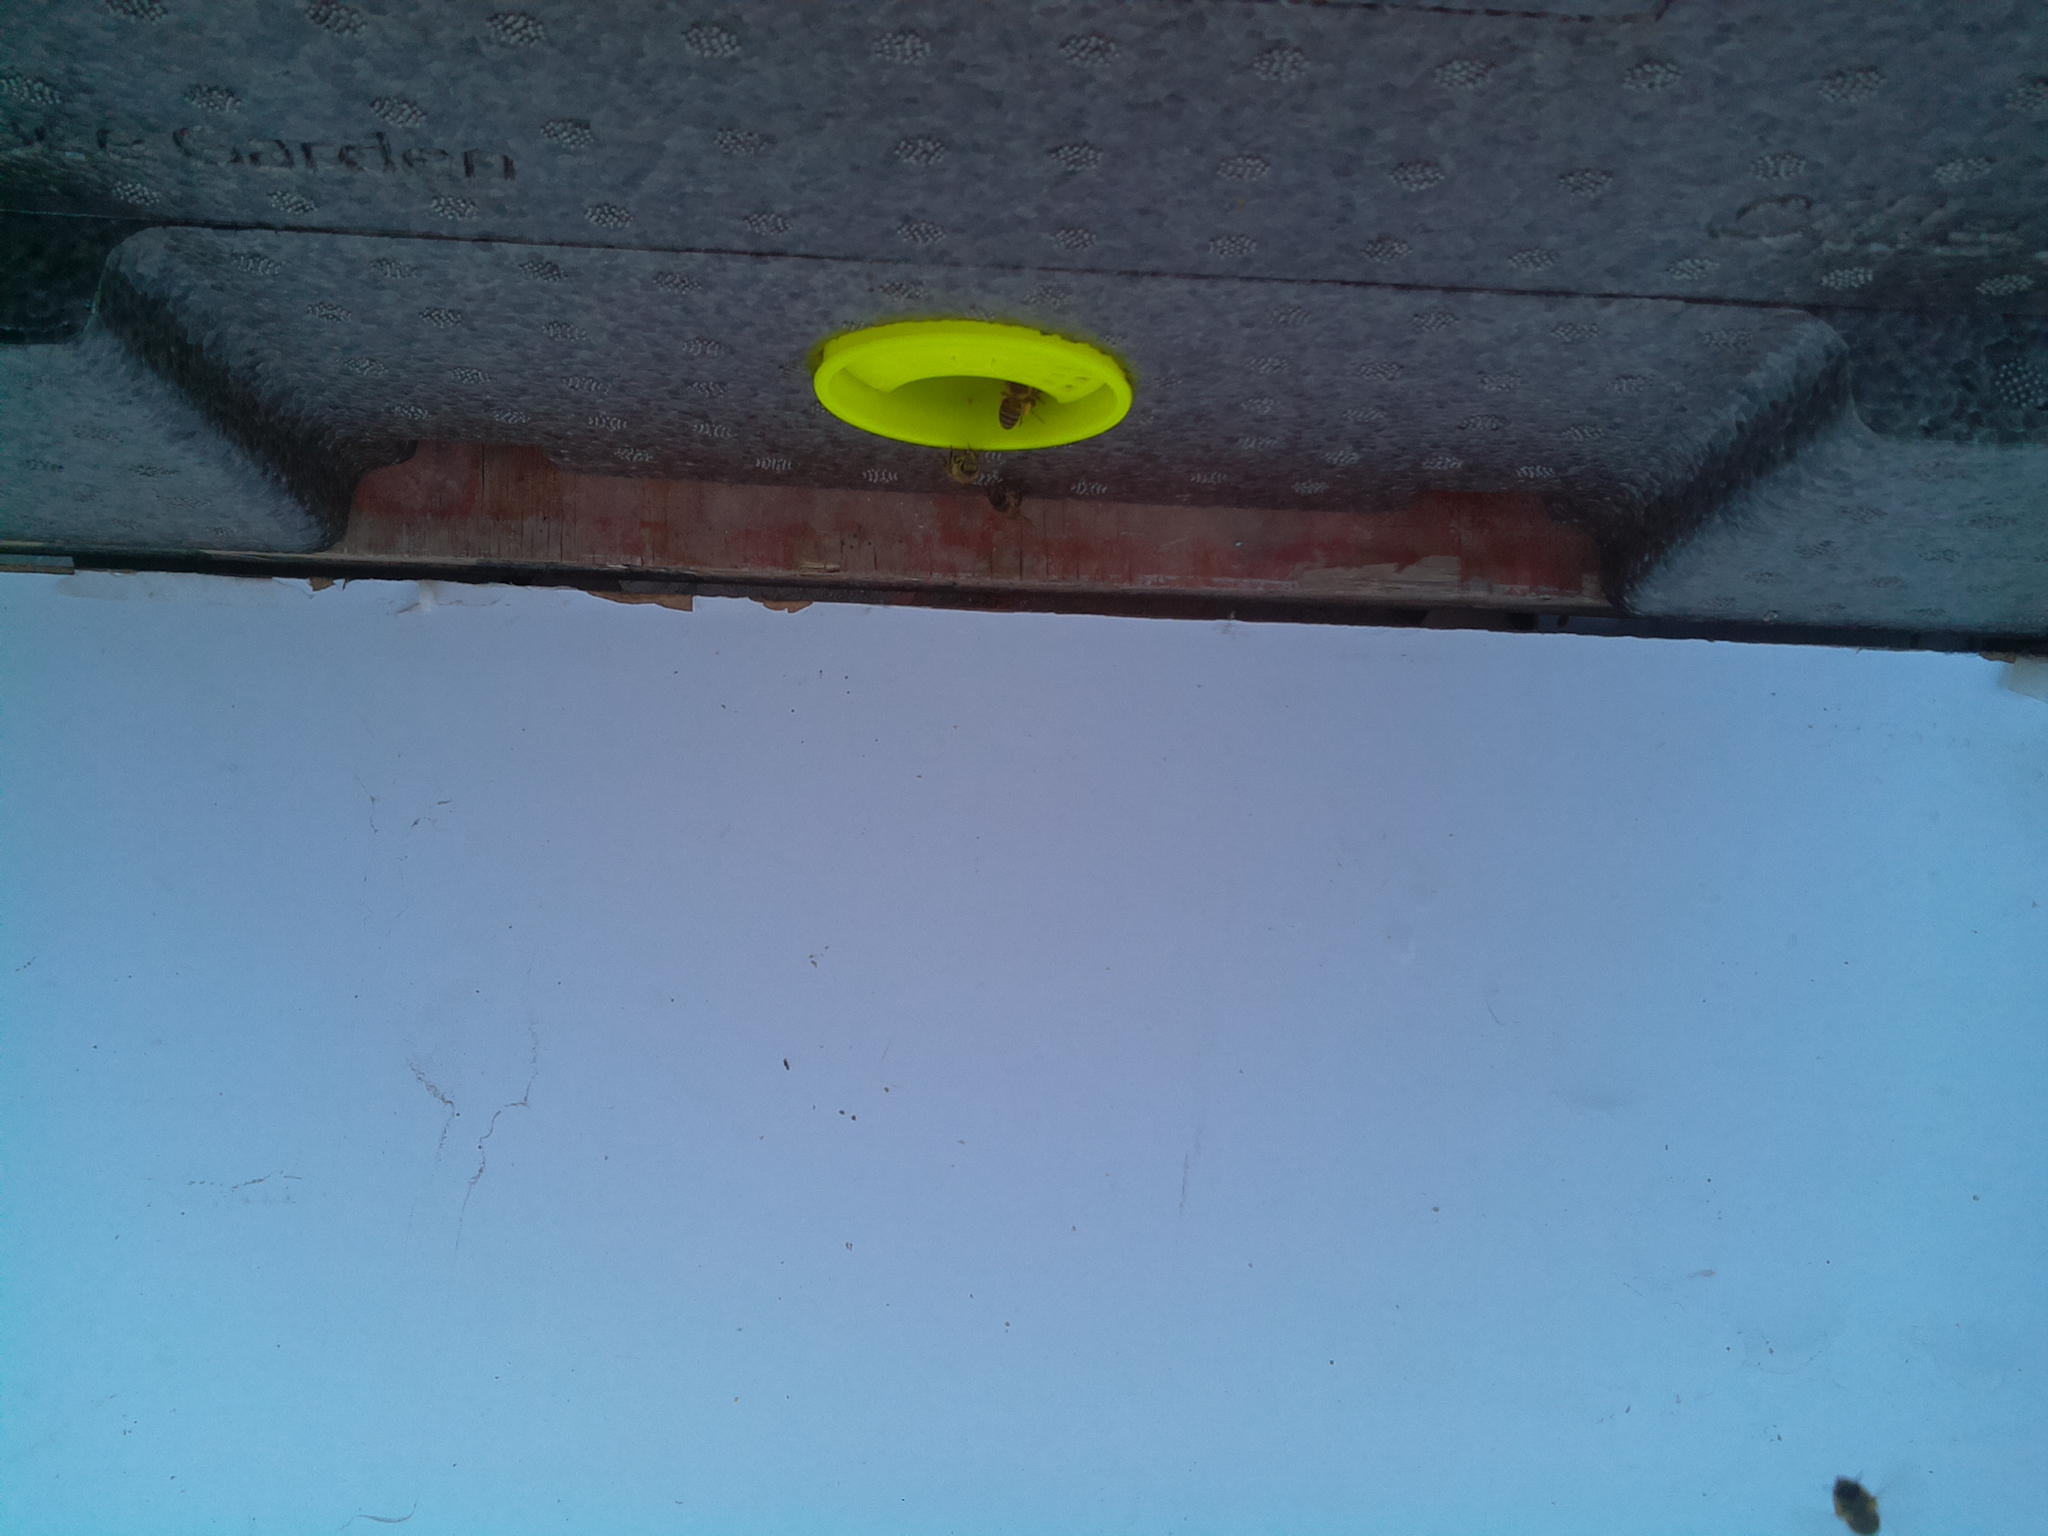bee: (1825, 1478, 1884, 1533)
